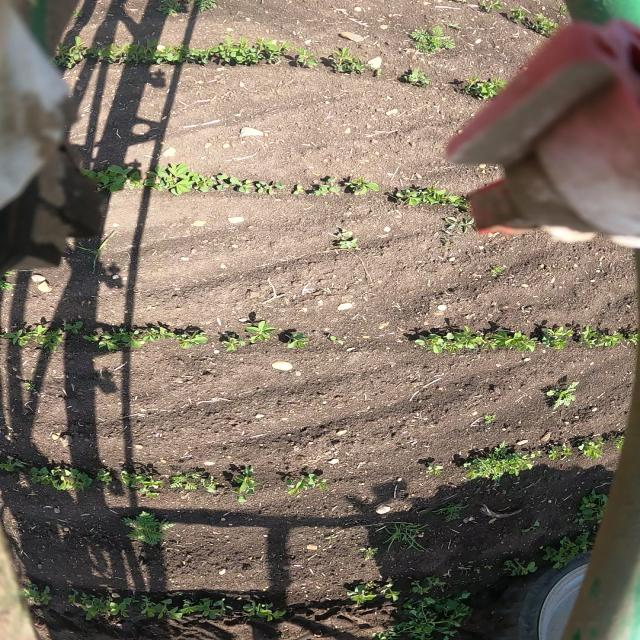plants: (372, 597, 474, 640), (446, 441, 538, 482), (0, 320, 83, 352), (79, 322, 173, 350), (539, 527, 598, 570), (405, 326, 487, 354), (373, 513, 428, 554), (116, 507, 170, 548), (66, 590, 132, 623), (391, 184, 474, 209), (272, 473, 346, 501), (77, 163, 148, 192), (150, 164, 214, 195), (526, 379, 588, 411), (397, 23, 458, 54), (538, 320, 594, 350), (75, 235, 119, 273), (44, 462, 90, 498), (570, 489, 616, 525), (163, 469, 227, 493), (52, 38, 98, 71), (482, 327, 542, 352), (202, 34, 252, 64), (227, 465, 266, 503), (344, 580, 401, 606), (180, 592, 236, 618), (148, 0, 224, 18), (151, 38, 201, 65), (490, 556, 544, 580), (120, 467, 163, 497), (461, 73, 506, 101), (240, 598, 291, 622), (132, 593, 178, 619), (99, 41, 150, 64), (599, 325, 640, 353), (324, 46, 363, 75), (0, 454, 43, 480), (431, 498, 471, 525), (324, 227, 363, 254), (16, 578, 56, 604), (251, 37, 288, 65), (214, 168, 255, 192), (341, 175, 383, 198), (401, 576, 454, 594), (393, 64, 436, 86), (270, 328, 316, 348), (442, 210, 474, 238), (247, 320, 276, 348), (254, 176, 292, 197), (571, 438, 609, 459), (524, 14, 558, 36), (171, 326, 208, 346), (300, 176, 341, 194), (537, 440, 573, 459), (91, 462, 119, 486), (220, 332, 250, 352), (293, 47, 318, 71), (482, 258, 511, 278), (606, 432, 635, 452), (499, 3, 525, 22), (0, 270, 20, 293), (475, 411, 504, 426), (473, 0, 501, 14), (322, 329, 344, 346), (520, 519, 544, 533), (552, 4, 572, 18), (70, 8, 92, 20), (439, 19, 462, 29), (372, 68, 387, 78)
